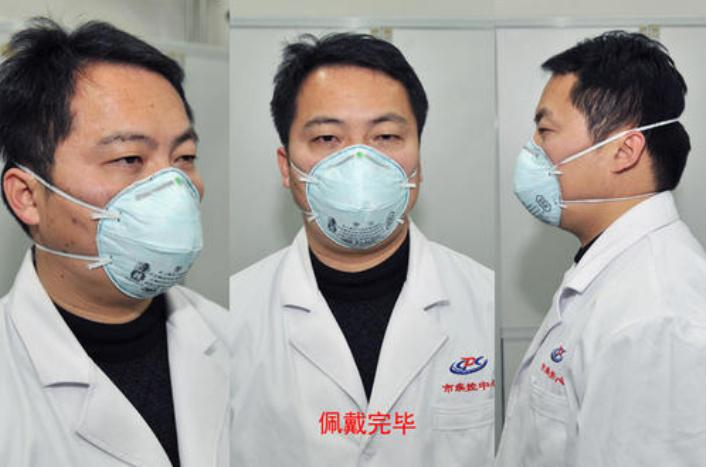OK: (73, 112, 205, 299), (296, 101, 418, 252), (517, 98, 586, 232)
